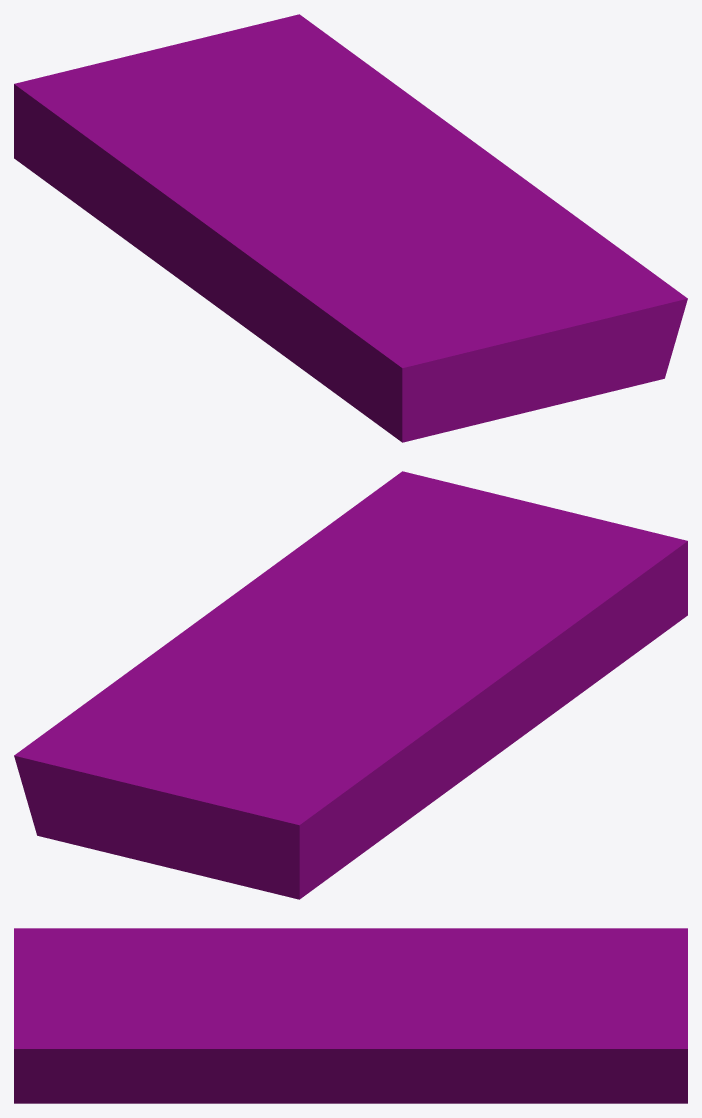
3 renders of one model, top to bottom at view 1: azimuth 30°, elevation 25°; view 2: azimuth 150°, elevation 25°; view 3: azimuth 270°, elevation 25°, orthographic. The views are drawn at different scales.
Visible parts, largest first — view 1: geometry_14; view 2: geometry_14; view 3: geometry_14.
Part boxes in pixels (left/top/right/bottom): geometry_14: left=14, top=14, right=687, bottom=442; geometry_14: left=14, top=471, right=687, bottom=899; geometry_14: left=14, top=928, right=687, bottom=1103.
Size of the model in its own units: 0.017 by 0.00423 by 0.04.
